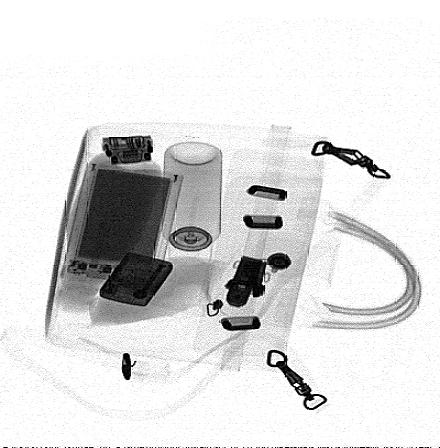Lighter: (99, 251, 174, 308)
Powerbank: (60, 163, 184, 285)
Sprayer: (161, 140, 222, 267)
